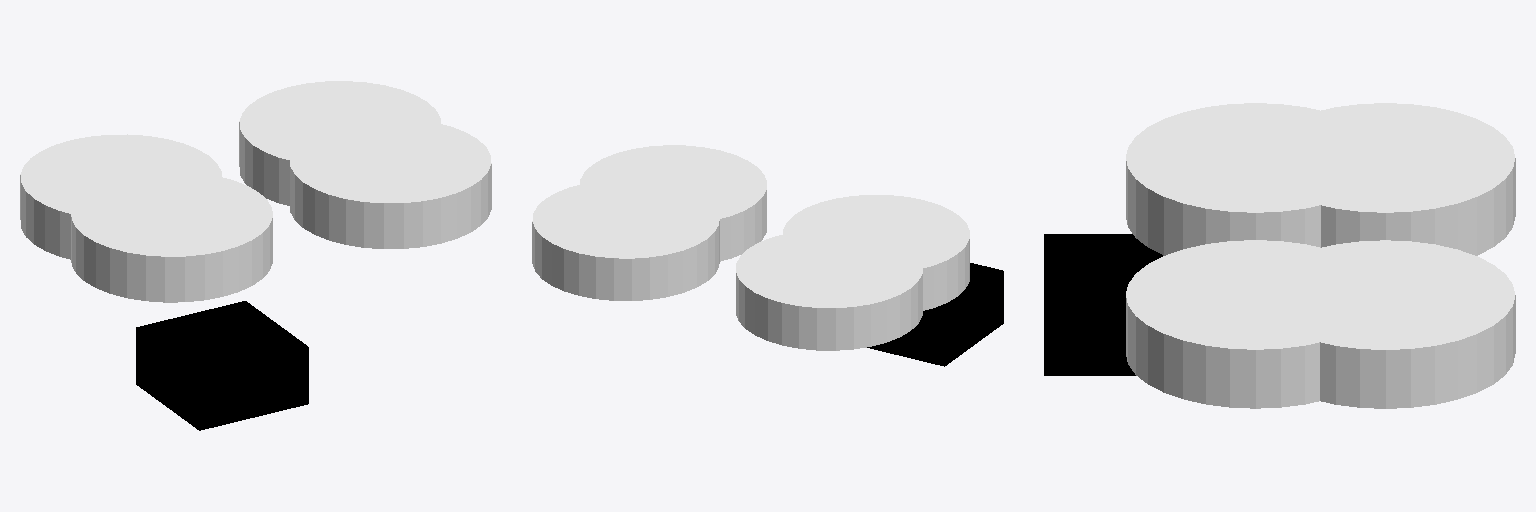
robot.urdf — TUM:
<?xml version="1.0" encoding="UTF-8"?>

<robot name="TUM">

  <link name="base_link">
    <inertial>
      <origin xyz="0 0 0" rpy="0 0 0" />
      <mass value="10" />
      <inertia ixx="0.5" ixy="0" ixz="0" iyy="0.5" iyz="0" izz="0.25" />
    </inertial>
    <visual>
      <origin xyz="0 0 0" rpy="0 0 0" />
      <geometry>
        <box size="0.5 0.5 0.25" />
      </geometry>
      <material name="black">
        <color rgba="0 0 0 1"/>
      </material>
    </visual>
    <collision>
      <origin xyz="0 0 0" rpy="0 0 0" />
      <geometry>
        <box size="0.5 0.5 0.25" />
      </geometry>
    </collision>
  </link>

  <link name="wheel1">
    <inertial>
      <origin xyz="0 0 0" rpy="0 0 0" />
      <mass value="1" />
      <inertia ixx="0.0001" ixy="0" ixz="0" iyy="0.1" iyz="0" izz="0.0002" />
    </inertial>
    <visual>
      <origin xyz="0 0.2 0.2" rpy="0 0 0" />
      <geometry>
        <cylinder length="0.2" radius="0.4" />
      </geometry>
      <material name="grey">
        <color rgba="1 1 1 1"/>
      </material>
    </visual>
    <collision>
      <origin xyz="0 0.2 0.2" rpy="0 0 0" />
      <geometry>
        <cylinder length="0.02" radius="0.4" />
      </geometry>
    </collision>
  </link>

  <joint name="joint_wheel1" type="continuous">
    <origin xyz="0 0.2 0.2" rpy="0 0 0" />
    <parent link="base_link" />
    <child link="wheel1" />
    <axis xyz="0 0 1" />
  </joint>

  <link name="wheel2">
    <inertial>
      <origin xyz="0 0 0" rpy="0 0 0" />
      <mass value="1" />
      <inertia ixx="0.0001" ixy="0" ixz="0" iyy="0.4" iyz="0" izz="0.0002" />
    </inertial>
    <visual>
      <origin xyz="0 0.4 0.2" rpy="0 0 0" />
      <geometry>
        <cylinder length="0.2" radius="0.4" />
      </geometry>
      <material name="grey">
        <color rgba="1 1 1 1"/>
      </material>
    </visual>
    <collision>
      <origin xyz="0 0.4 0.2" rpy="0 0 0" />
      <geometry>
        <cylinder length="0.2" radius="0.4" />
      </geometry>
    </collision>
  </link>

  <joint name="joint_wheel2" type="continuous">
    <origin xyz="0 0.4 0.2" rpy="0 0 0" />
    <parent link="base_link" />
    <child link="wheel2" />
    <axis xyz="0 0 1" />
  </joint>

  <link name="wheel3">
    <inertial>
      <origin xyz="0 0 0" rpy="0 0 0" />
      <mass value="1" />
      <inertia ixx="0.499" ixy="0" ixz="0" iyy="0.1" iyz="0" izz="0.0002" />
    </inertial>
    <visual>
      <origin xyz="0.499 0.2 .2" rpy="0 0 0" />
      <geometry>
        <cylinder length="0.2" radius="0.4" />
      </geometry>
      <material name="grey">
        <color rgba="1 1 1 1"/>
      </material>
    </visual>
    <collision>
      <origin xyz=".499 0.2 0.2" rpy="0 0 0" />
      <geometry>
        <cylinder length="0.2" radius="0.4" />
      </geometry>
    </collision>
  </link>

  <joint name="joint_wheel3" type="continuous">
    <origin xyz="0.499 0.2 0.2" rpy="0 0 0" />
    <parent link="base_link" />
    <child link="wheel3" />
    <axis xyz="0 0 1" />
  </joint>

  <link name="wheel4">
    <inertial>
      <origin xyz="0 0 0" rpy="0 0 0" />
      <mass value="1" />
      <inertia ixx="0.4999" ixy="0" ixz="0" iyy="0.4" iyz="0" izz="0.0002" />
    </inertial>
    <visual>
      <origin xyz="0.4999 0.4 0.2" rpy="0 0 0" />
      <geometry>
        <cylinder length="0.2" radius="0.4" />
      </geometry>
      <material name="grey">
        <color rgba="1 1 1 1"/>
      </material>
    </visual>
    <collision>
      <origin xyz="0.4999 0.4 0.2" rpy="0 0 0" />
      <geometry>
        <cylinder length="0.2" radius="0.4" />
      </geometry>
    </collision>
  </link>

  <joint name="joint_wheel4" type="continuous">
    <origin xyz="0.4999 0.4 0.2" rpy="0 0 0" />
    <parent link="base_link" />
    <child link="wheel4" />
    <axis xyz="0 0 1" />
  </joint>
</robot>

--- Render facts (derived) ---
The picture shows the robot from 3 angles, left to right: view 1: azimuth 30°, elevation 25°; view 2: azimuth 150°, elevation 25°; view 3: azimuth 270°, elevation 25°; orthographic projection.
Model TUM with 5 links and 4 joints (4 continuous), rooted at base_link, posed every joint at zero.
Links seen in each view (by area): view 1: wheel1, wheel3, base_link, wheel4, wheel2; view 2: wheel2, wheel4, wheel3, wheel1, base_link; view 3: wheel3, wheel1, wheel4, wheel2, base_link.
Boxes of the visible links, box(x1,y1,x2,y2) form: wheel1: box(71, 172, 272, 302); wheel3: box(290, 118, 491, 248); base_link: box(136, 301, 308, 430); wheel4: box(239, 81, 440, 205); wheel2: box(20, 134, 221, 259); wheel2: box(736, 229, 922, 350); wheel4: box(532, 180, 719, 300); wheel3: box(580, 145, 766, 261); wheel1: box(783, 195, 969, 310); base_link: box(867, 263, 1003, 366); wheel3: box(1126, 240, 1384, 408); wheel1: box(1126, 103, 1384, 255); wheel4: box(1256, 240, 1515, 408); wheel2: box(1256, 103, 1515, 255); base_link: box(1044, 234, 1162, 375).
Bounding box of the posed robot: 1.8 × 1.45 × 0.625 m (x, y, z).
Geometry: primitives only (box / cylinder / sphere), no mesh files.